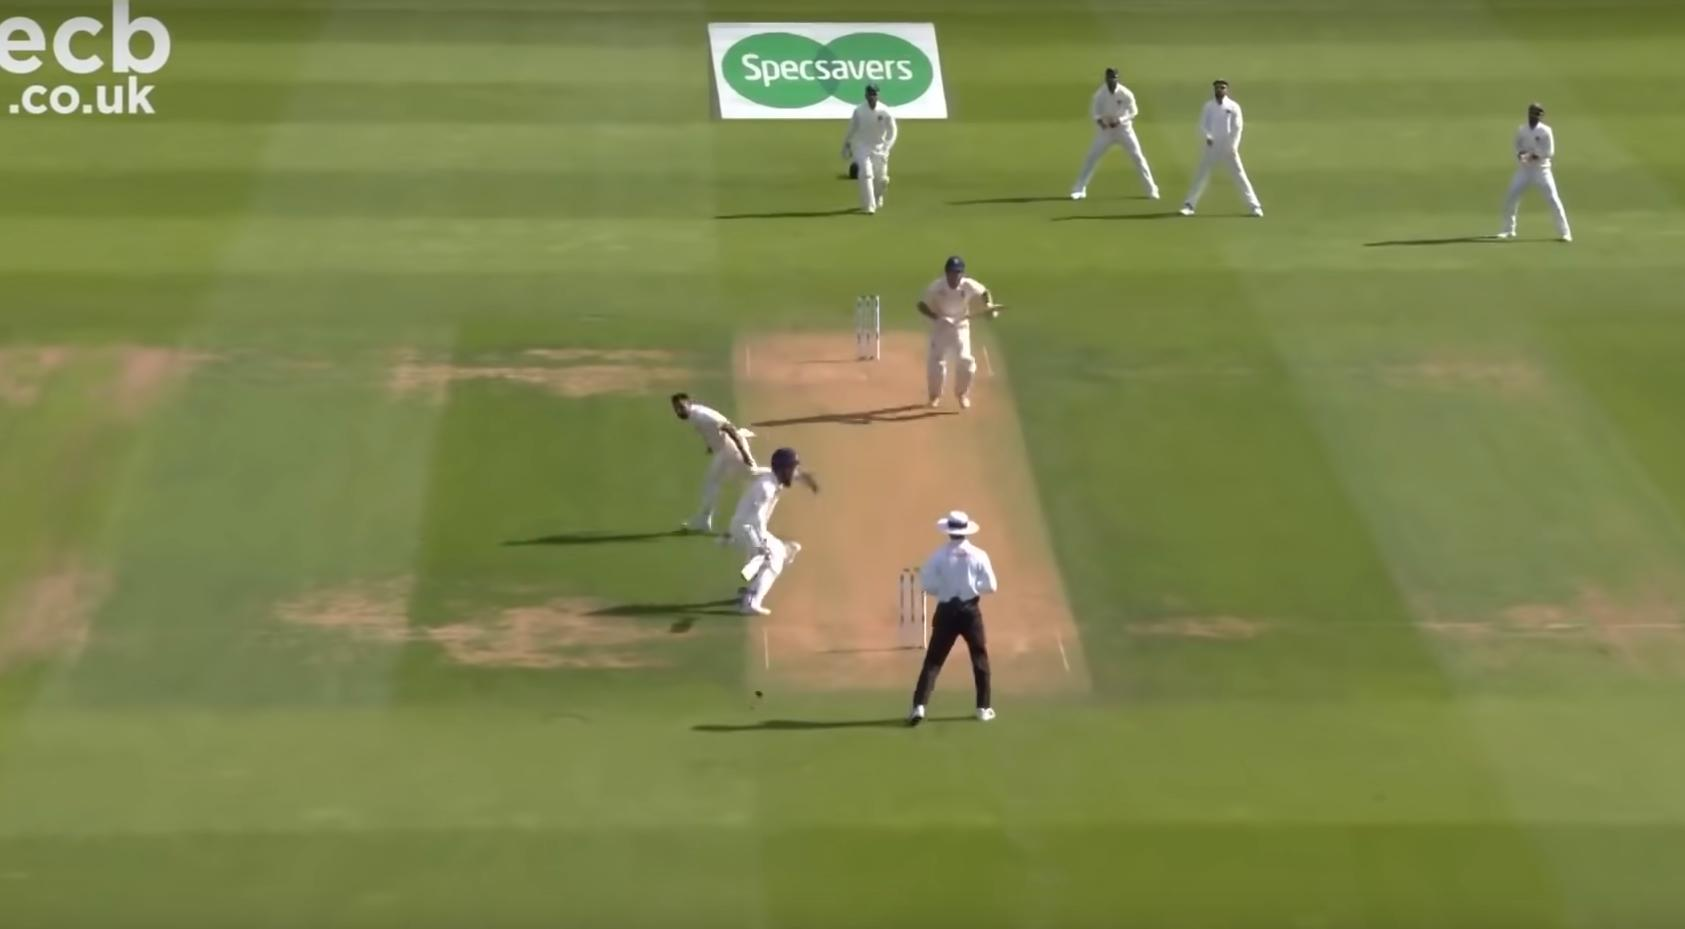Cricket-Ball: (744, 682, 776, 705)
